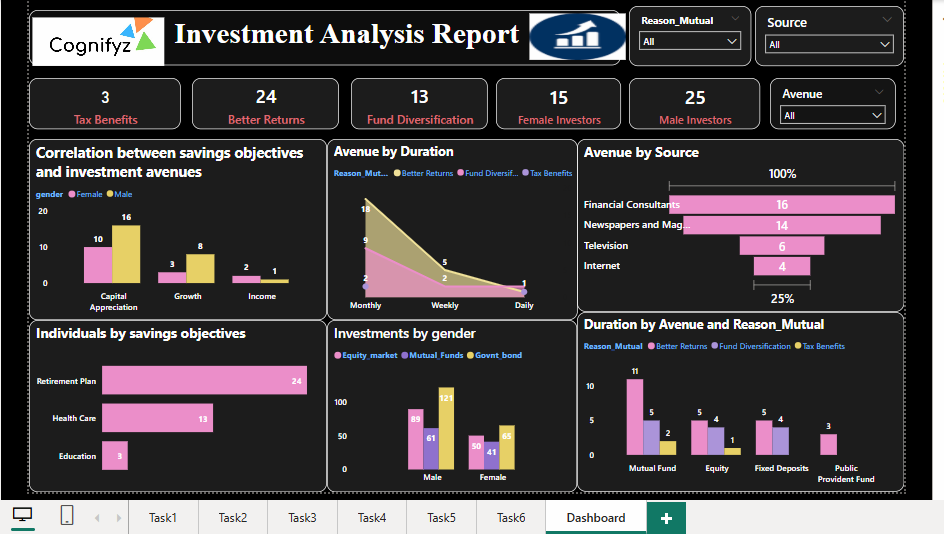

This screenshot's page, from the dashboard's own definition file:
{"tool":"powerbi","page":{"name":"Dashboard","canvas":[1280,720],"ordinal":6},"visuals":[{"type":"textbox","box":[0,14.6,866.3,80.7],"z":0,"group":"g3"},{"type":"clusteredBarChart","title":"Individuals by savings objectives","fields":{"Category":["Data_set 2.What are your savings objectives?"],"Y":["CountNonNull(Data_set 2.gender)"]},"box":[0,468.3,436.1,251.7],"z":0},{"type":"group","id":"g1","title":"Group 1","box":[0,14.6,878,80.7],"z":2,"group":"g4"},{"type":"group","id":"g2","title":"Group 2","box":[0,14.6,878,80.7],"z":13,"group":"g1"},{"type":"image","box":[0,20.3,203.4,80.7],"z":21,"group":"g4"},{"type":"group","id":"g3","title":"Group 4","box":[0,14.6,878,80.7],"z":23,"group":"g2"},{"type":"image","box":[727.3,14.7,150.7,78.1],"z":1000,"group":"g3"},{"type":"clusteredColumnChart","title":"Investments by gender","fields":{"Category":["Data_set 2.gender"],"Y":["Data_set 2.Total Equity_market","Data_set 2.Total Mutual_Funds Investment","Data_set 2.Total Govnt_bond Investment"]},"box":[436.1,468.3,365.9,251.7],"z":1000},{"type":"clusteredColumnChart","title":"Correlation between savings objectives and  investment avenues","fields":{"Category":["Data_set 2.Objective"],"Y":["CountNonNull(Data_set 2.Avenue)"],"Series":["Data_set 2.gender"]},"box":[0,203.4,436.1,264.9],"z":2000},{"type":"clusteredColumnChart","title":"Duration by Avenue and Reason_Mutual","fields":{"Category":["Data_set 2.Avenue"],"Y":["CountNonNull(Data_set 2.Duration)"],"Series":["Data_set 2.Reason_Mutual"]},"box":[802,456.6,478.5,263.4],"z":3000},{"type":"funnel","title":"Avenue by Source","fields":{"Category":["Data_set 2.Source"],"Y":["CountNonNull(Data_set 2.Avenue)"]},"box":[802,203.4,478.5,253.2],"z":4000},{"type":"areaChart","title":"Avenue by Duration","fields":{"Category":["Data_set 2.Invest_Monitor"],"Y2":["CountNonNull(Data_set 2.Avenue)"],"Series":["Data_set 2.Reason_Mutual"]},"box":[436.1,203.4,367.3,264.9],"z":5000},{"type":"slicer","fields":{"Values":["Data_set 2.Reason_Mutual"]},"box":[878,8.8,178.5,87.8],"z":6000},{"type":"slicer","fields":{"Values":["Data_set 2.Source"]},"box":[1062.4,8.8,218,87.8],"z":7000},{"type":"group","id":"g4","title":"Group 3","box":[0,14.6,878,86.3],"z":8000},{"type":"card","fields":{"Values":["Data_set 2.Tax Benefits"]},"box":[0,114.1,222.4,74.6],"z":9000},{"type":"card","fields":{"Values":["Data_set 2.Butter Returns"]},"box":[238.5,114.1,215.1,74.6],"z":10000},{"type":"card","fields":{"Values":["Data_set 2.Fund Diversification"]},"box":[471.2,114.1,200.5,74.6],"z":11000},{"type":"card","fields":{"Values":["Data_set 2.Female Investors"]},"box":[683.4,114.1,182.9,74.6],"z":12000},{"type":"card","fields":{"Values":["Data_set 2.Male Investors"]},"box":[878,114.1,191.7,74.6],"z":13000},{"type":"slicer","fields":{"Values":["Data_set 2.Avenue"]},"box":[1084.4,114.1,184.4,74.6],"z":14000}]}

Visuals, with their boxes on the page's 1280x720 design canvas (x1, y1, x2, y2). These are canvas units, not pixel positions in the 944x534 screenshot, which may show the page scaled, cropped or inside an application window:
textbox: x1=0 y1=15 x2=866 y2=95
"Individuals by savings objectives" clusteredBarChart: x1=0 y1=468 x2=436 y2=720
"Group 1" group: x1=0 y1=15 x2=878 y2=95
"Group 2" group: x1=0 y1=15 x2=878 y2=95
image: x1=0 y1=20 x2=203 y2=101
"Group 4" group: x1=0 y1=15 x2=878 y2=95
image: x1=727 y1=15 x2=878 y2=93
"Investments by gender" clusteredColumnChart: x1=436 y1=468 x2=802 y2=720
"Correlation between savings objectives and  investment avenues" clusteredColumnChart: x1=0 y1=203 x2=436 y2=468
"Duration by Avenue and Reason_Mutual" clusteredColumnChart: x1=802 y1=457 x2=1280 y2=720
"Avenue by Source" funnel: x1=802 y1=203 x2=1280 y2=457
"Avenue by Duration" areaChart: x1=436 y1=203 x2=803 y2=468
slicer - Data_set 2.Reason_Mutual: x1=878 y1=9 x2=1056 y2=97
slicer - Data_set 2.Source: x1=1062 y1=9 x2=1280 y2=97
"Group 3" group: x1=0 y1=15 x2=878 y2=101
card - Data_set 2.Tax Benefits: x1=0 y1=114 x2=222 y2=189
card - Data_set 2.Butter Returns: x1=238 y1=114 x2=454 y2=189
card - Data_set 2.Fund Diversification: x1=471 y1=114 x2=672 y2=189
card - Data_set 2.Female Investors: x1=683 y1=114 x2=866 y2=189
card - Data_set 2.Male Investors: x1=878 y1=114 x2=1070 y2=189
slicer - Data_set 2.Avenue: x1=1084 y1=114 x2=1269 y2=189
